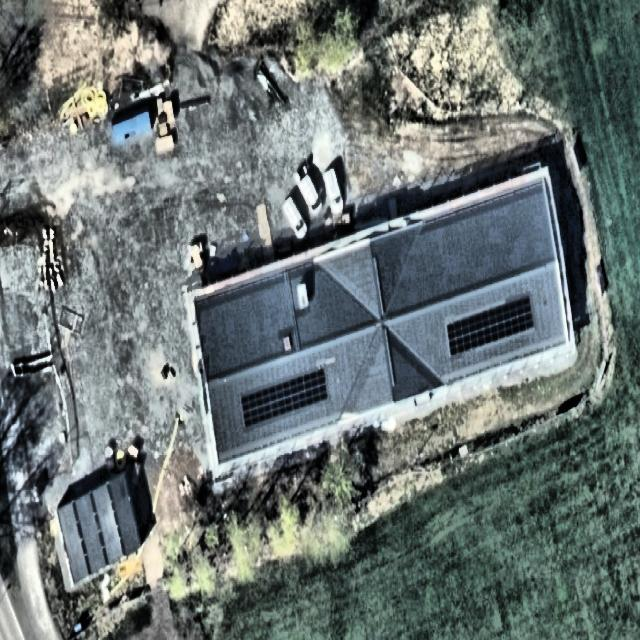roof_pv: (443, 303, 502, 357), (237, 376, 288, 428), (288, 365, 331, 418), (504, 293, 537, 344)
